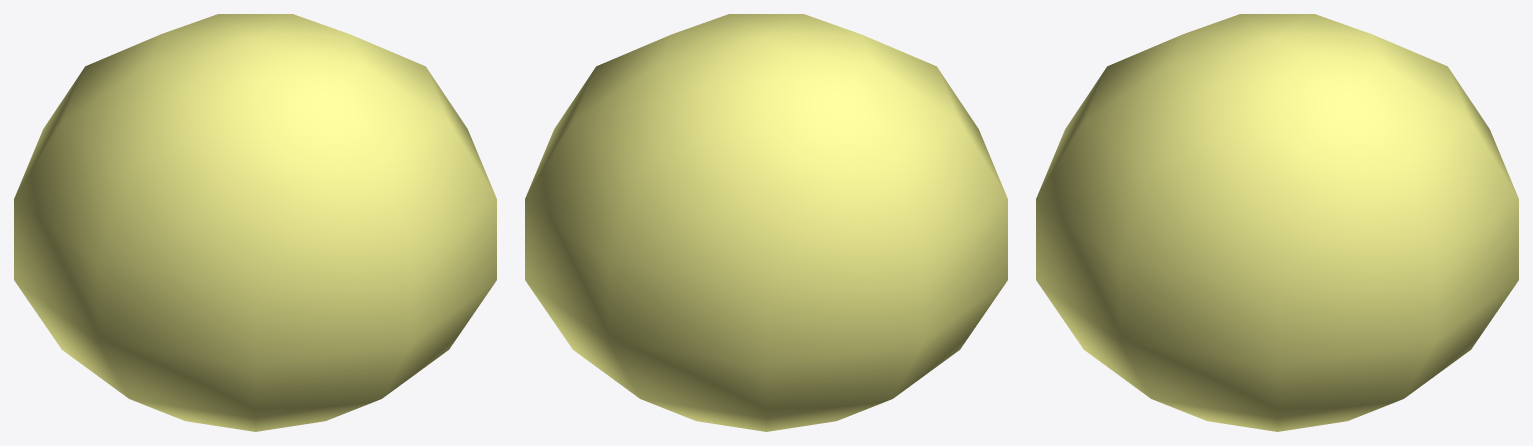
Rendered from gloworb_stage1.obj.
3 renders of one model, left to right at view 1: azimuth 30°, elevation 25°; view 2: azimuth 150°, elevation 25°; view 3: azimuth 270°, elevation 25°, orthographic.
Size of the model in its own units: 1.23 by 1.04 by 1.25.
